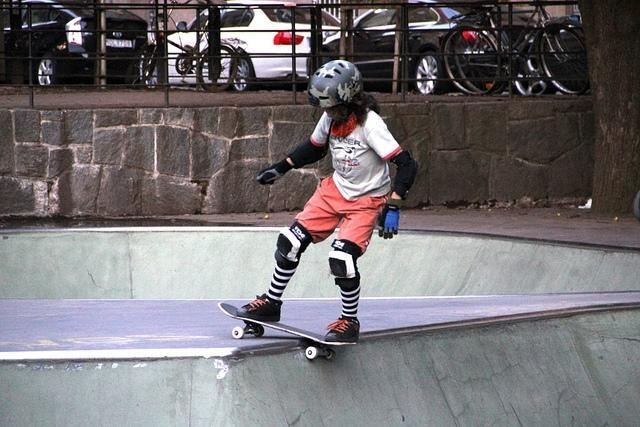bicycle: (440, 0, 594, 98), (136, 13, 241, 92), (176, 58, 193, 74)
car: (140, 1, 344, 92), (304, 2, 468, 93), (1, 1, 149, 88)
